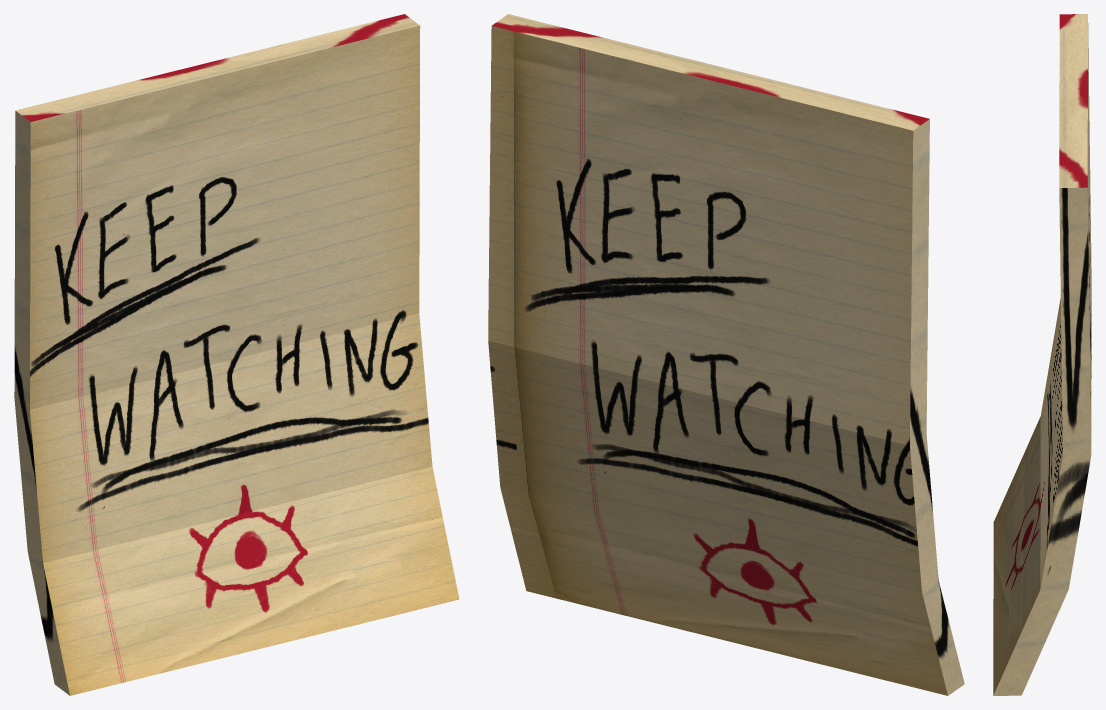
The model's file is unpinned note TW.fbx.
3 views of the same model, side by side, from view 1: azimuth 30°, elevation 25°; view 2: azimuth 150°, elevation 25°; view 3: azimuth 270°, elevation 25° (orthographic). The views are drawn at different scales.
Parts seen in each view (by area): view 1: Cube.019; view 2: Cube.019; view 3: Cube.019.
Part boxes in pixels (x1,y1,x2,y2): Cube.019: (14,14,459,695); Cube.019: (488,14,964,695); Cube.019: (993,14,1091,695).
Size of the model in its own units: 57.26 by 76.67 by 13.45.
